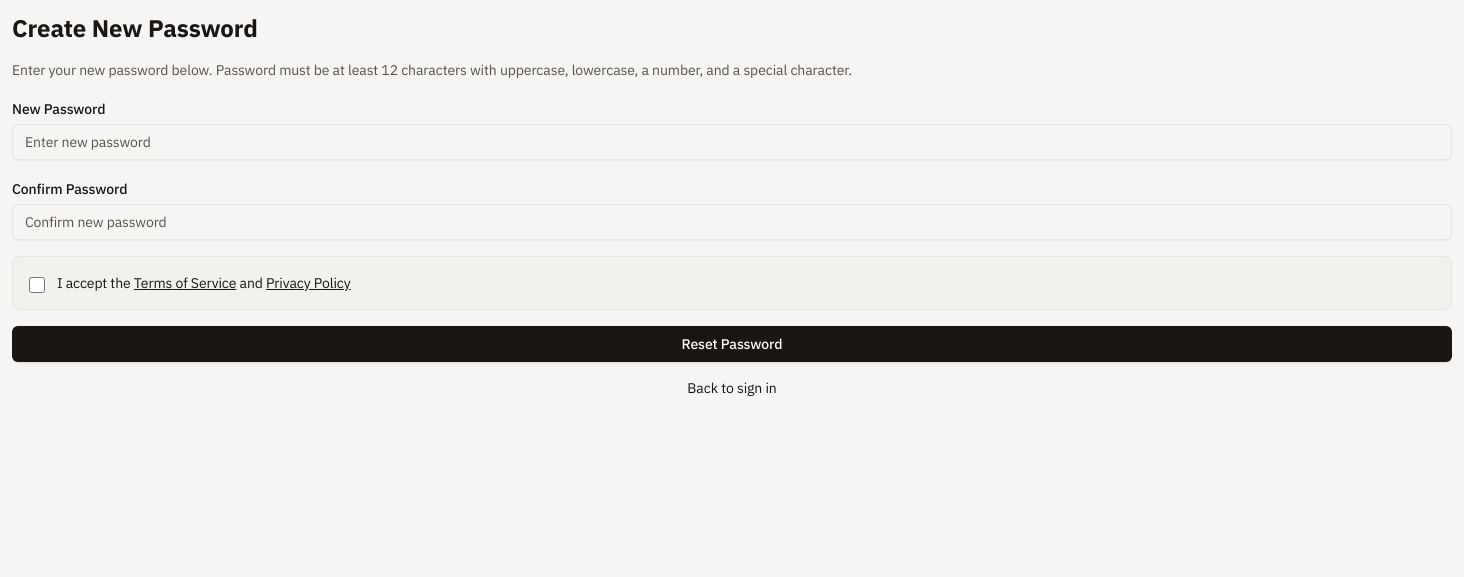
Test: ResetPasswordPage › requires Terms acceptance when the reset token is activating a company invite
Expected: the heading "Create New Password" is shown, [12,12,258,44]
Type "NewPassword123!" into the password field labelled "New Password" at (732, 142), box [12,124,1452,160]
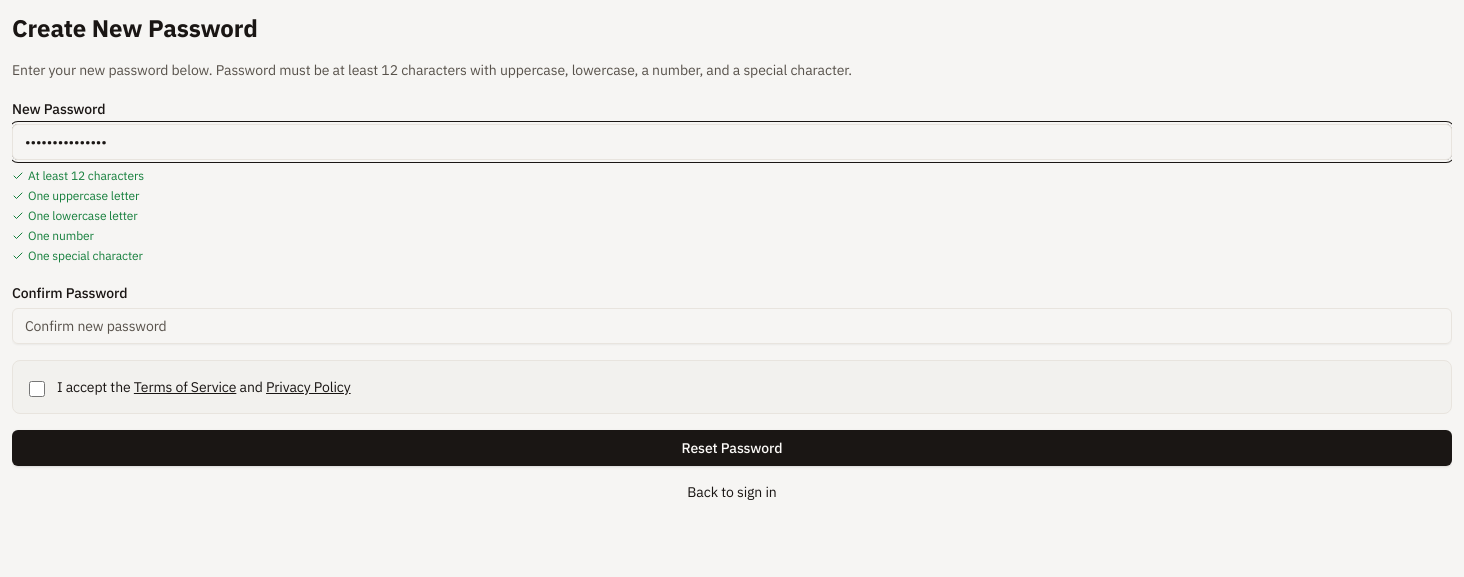
Type "NewPassword123!" into the password field labelled "Confirm Password" at (732, 326), box [12,308,1452,344]
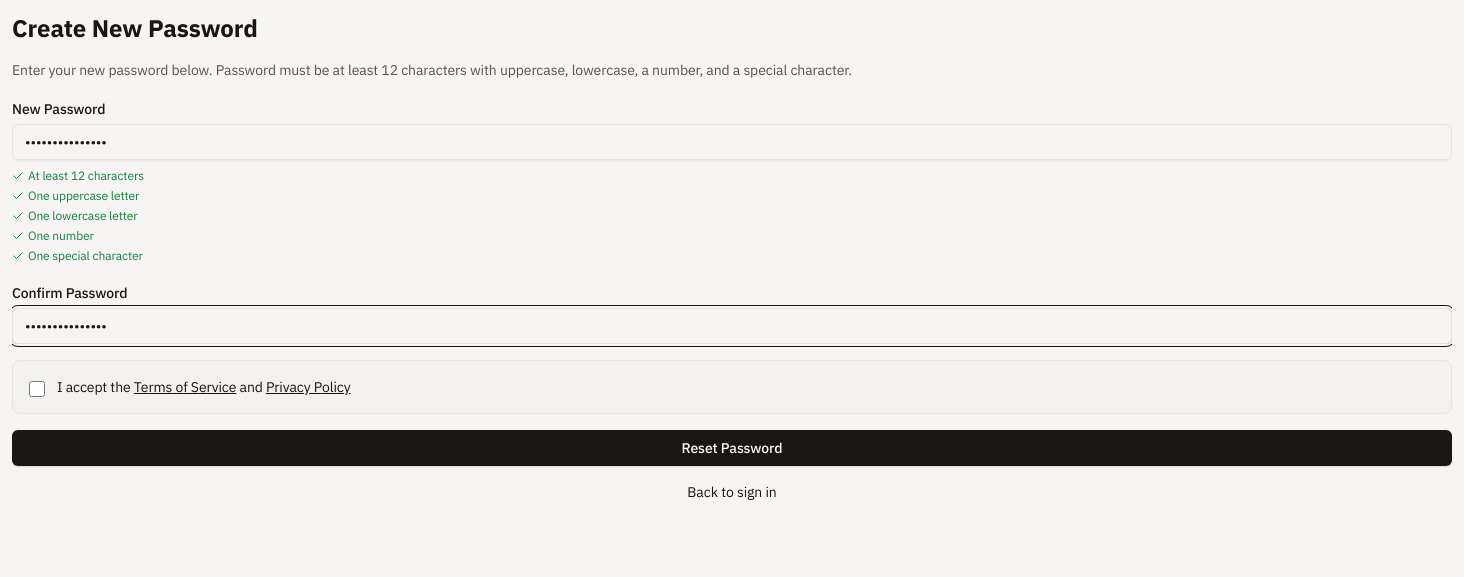
Click the button "Reset Password" at (732, 448), box [12,430,1452,466]
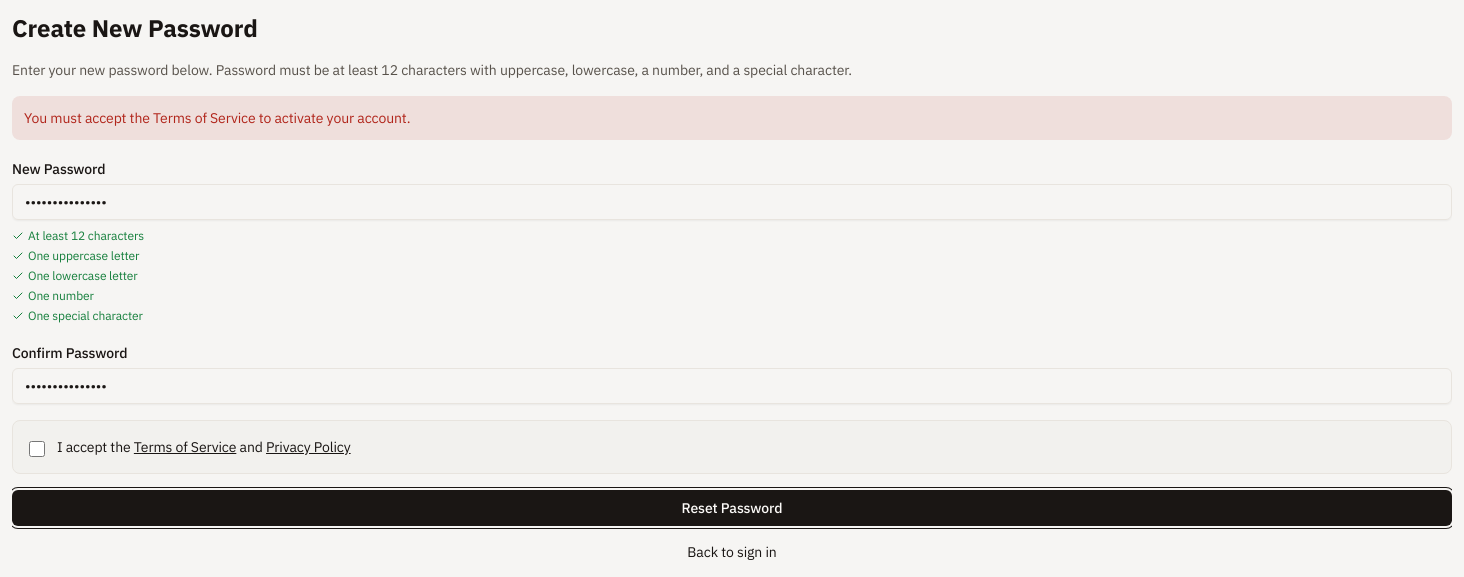
Expected: the text "You must accept the Terms of Service to activate your account." is shown, [12,96,1452,140]
Click the checkbox labelled "I accept the Terms of Service and Privacy Policy" at (37, 449), box [29,441,45,457]
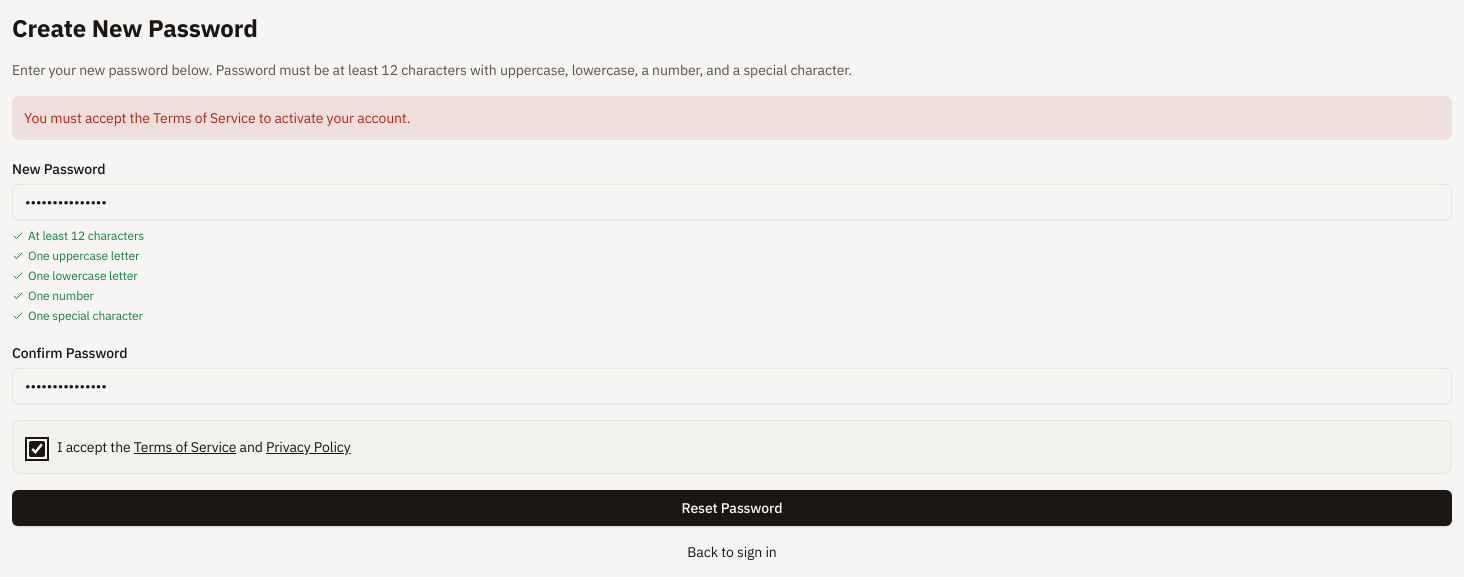
Click the button "Reset Password" at (732, 508), box [12,490,1452,526]
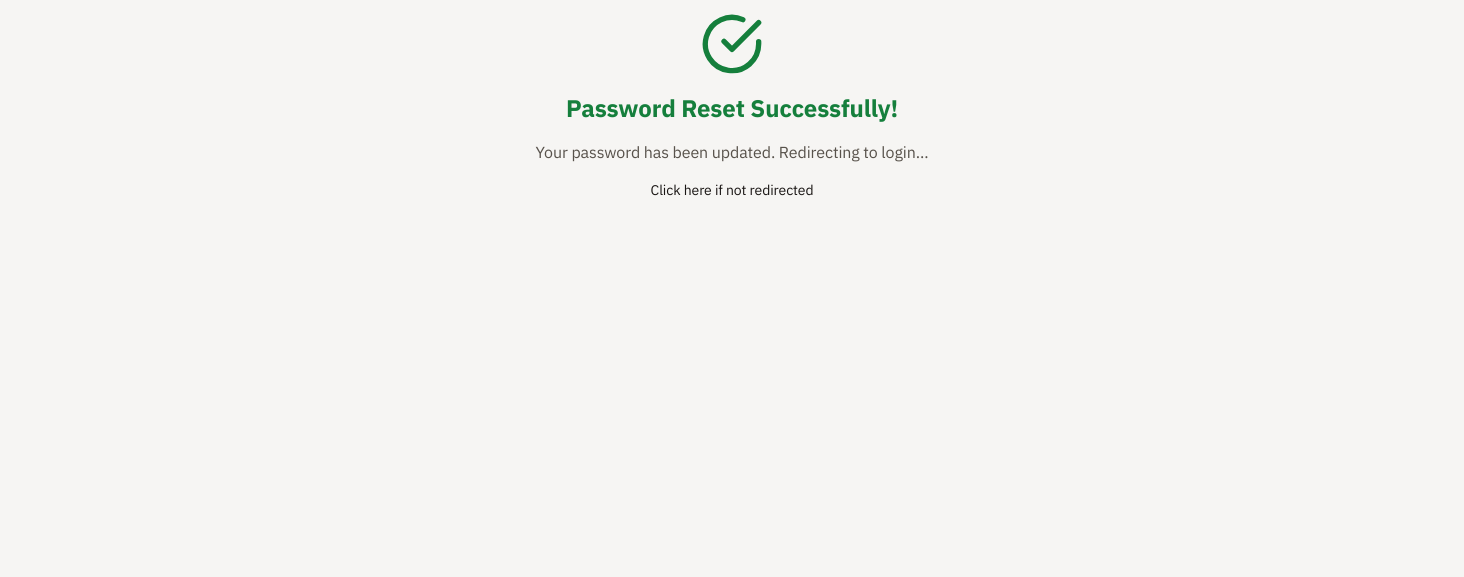
Expected: the heading "Password Reset Successfully!" is shown, [566,92,898,124]
